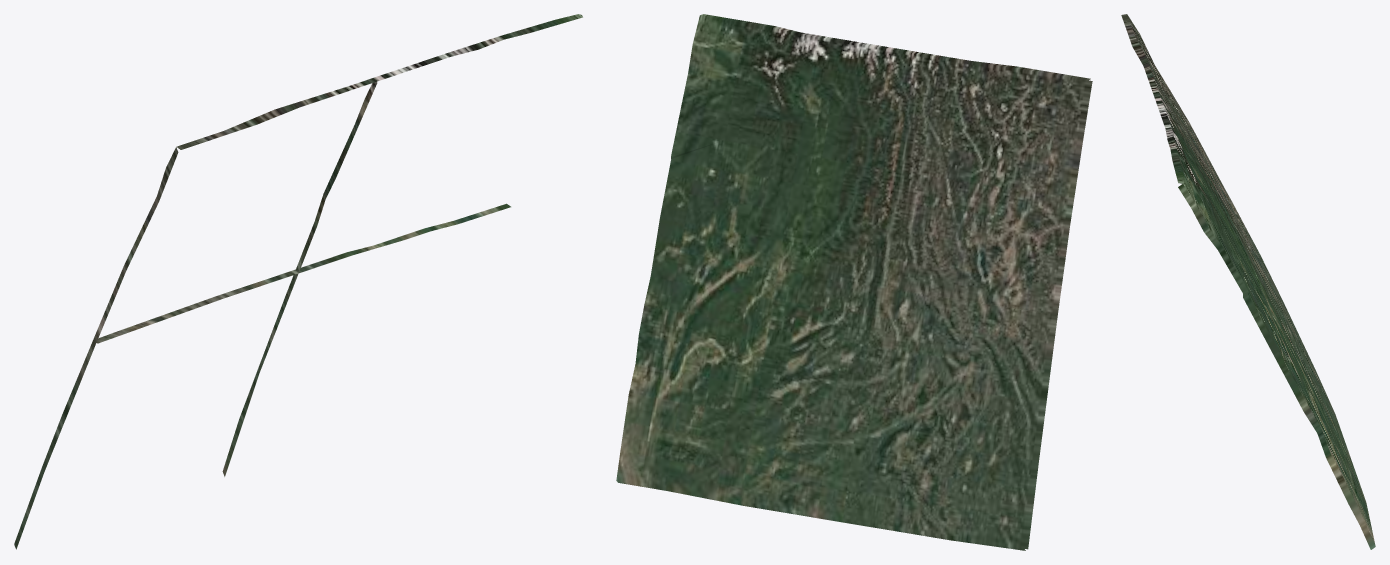
3 renders of one model, left to right at view 1: azimuth 30°, elevation 25°; view 2: azimuth 150°, elevation 25°; view 3: azimuth 270°, elevation 25°, orthographic. The views are drawn at different scales.
Bounding box in the file's own units: 605995 × 574778 × 350771.
1 material, 1 textured.
